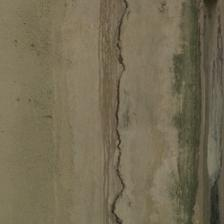Crack: (54, 3, 80, 218)
